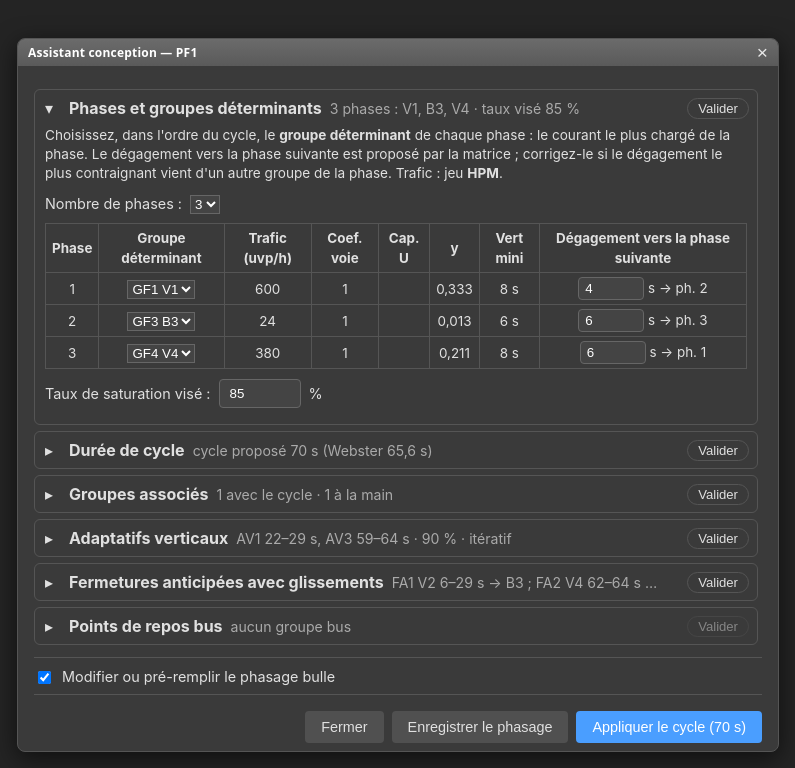
suggestion de durée du cycle › déterminants sans vert (Déb/Fin vides) : diagramme pré-rempli à la position proposée
The image size is (795, 768).
Click the button "▸ Durée de cycle cycle proposé 70 s (Webster 65,6 s)": (357, 450) [35,432,679,468]
(page scrolled)
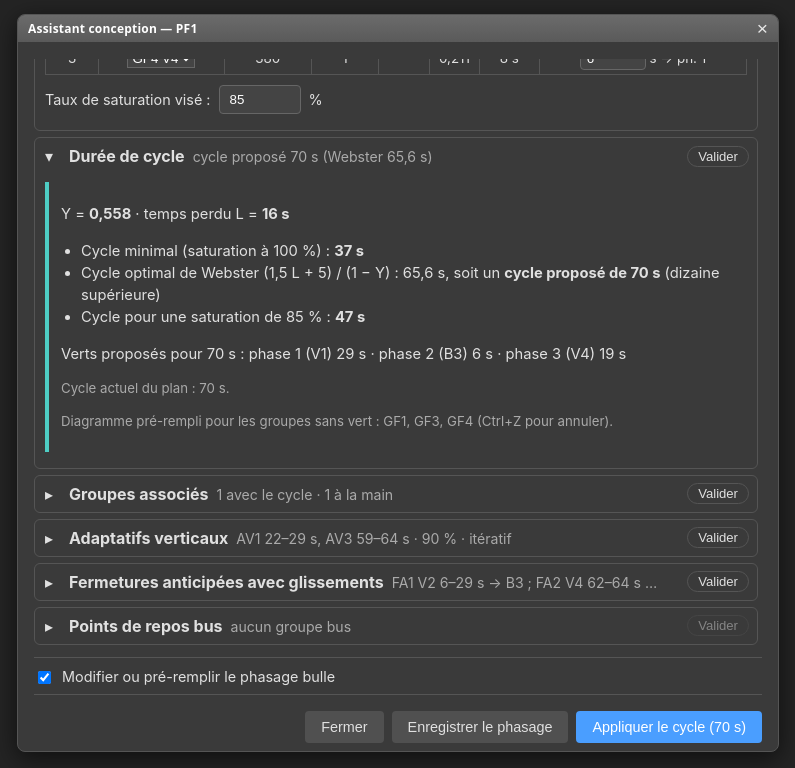
Click the button "▸ Groupes associés 1 avec le cycle · 1 à la main": (357, 494) [35,476,679,512]
(page scrolled)
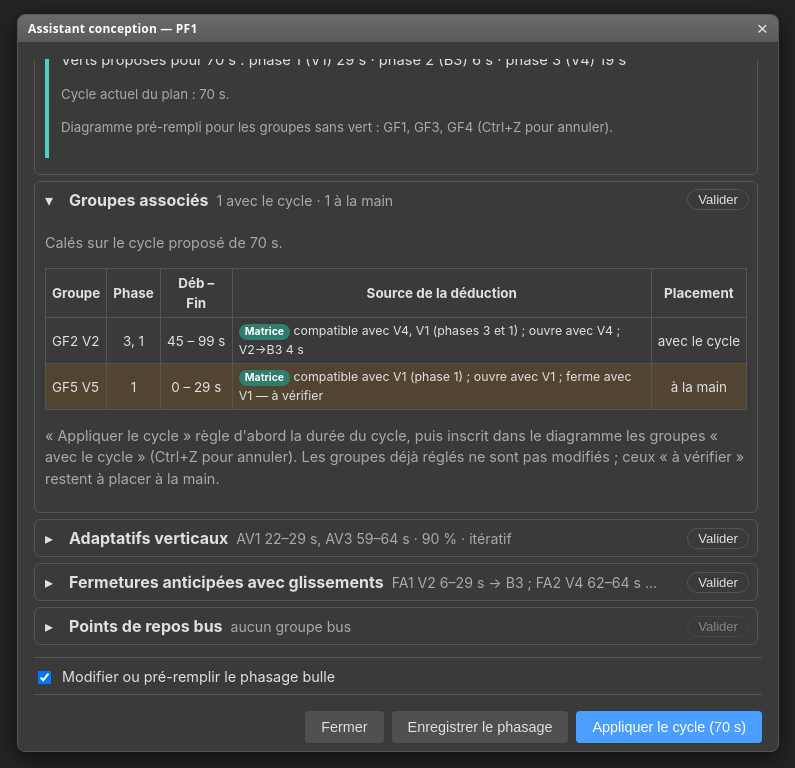
Click the button with aria-label "Déployer": (357, 538) [35,520,679,556]
(page scrolled)
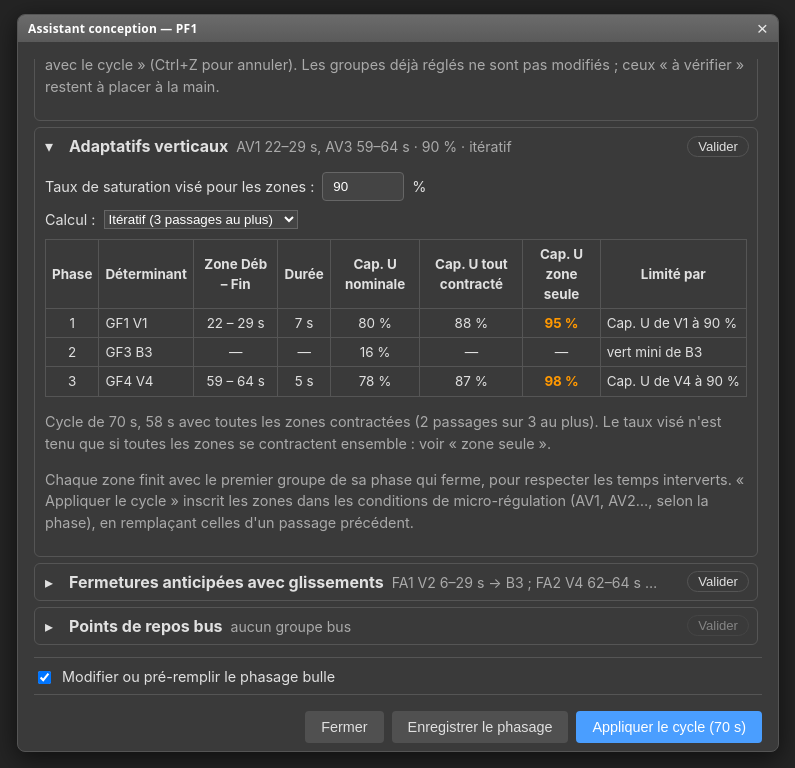
Click the button with aria-label "Déployer": (357, 582) [35,564,679,600]
(page scrolled)
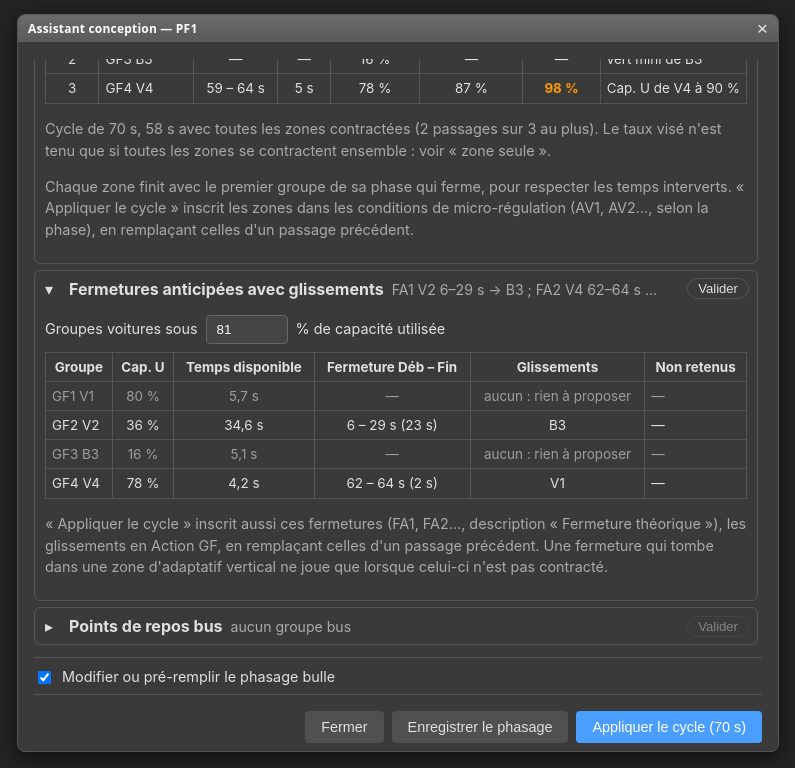
Click the button "▸ Points de repos bus aucun groupe bus": (146, 626) [35,608,679,644]
(page scrolled)
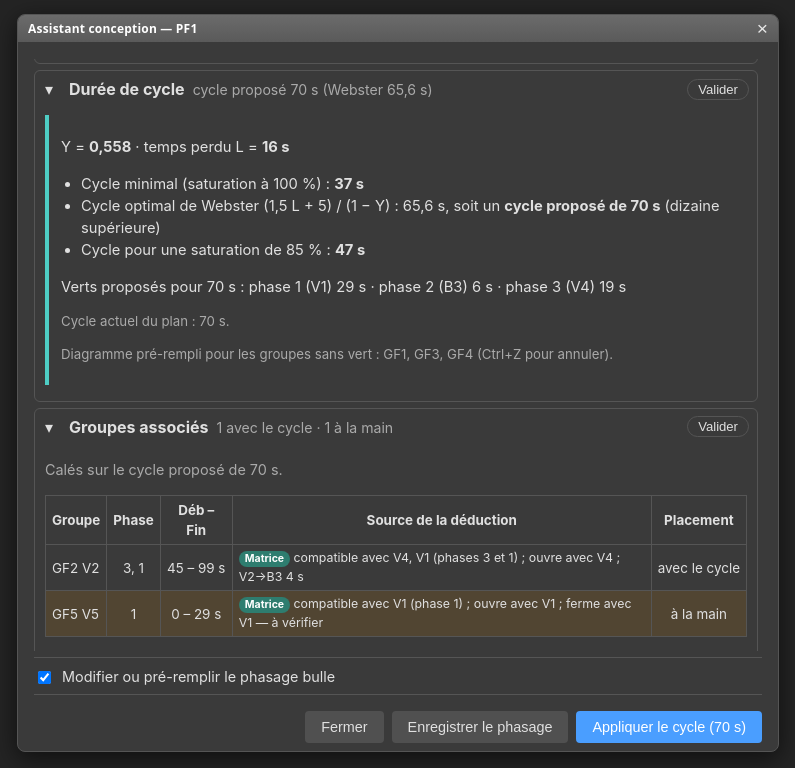
Expected: the text "Diagramme pré-rempli" is shown, [61,346,383,362]
